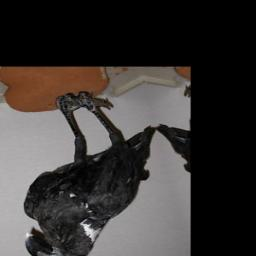Crow: (0, 81, 188, 256)
